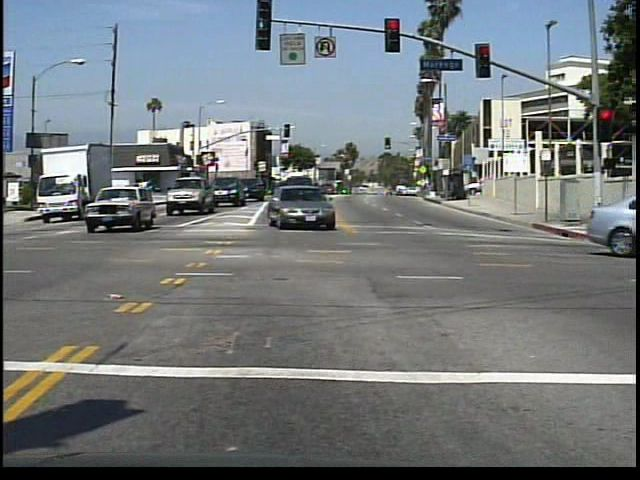car: (271, 183, 335, 232), (88, 177, 142, 233), (30, 163, 84, 219), (157, 172, 208, 213), (213, 175, 242, 208)
strada: (45, 240, 640, 444)
